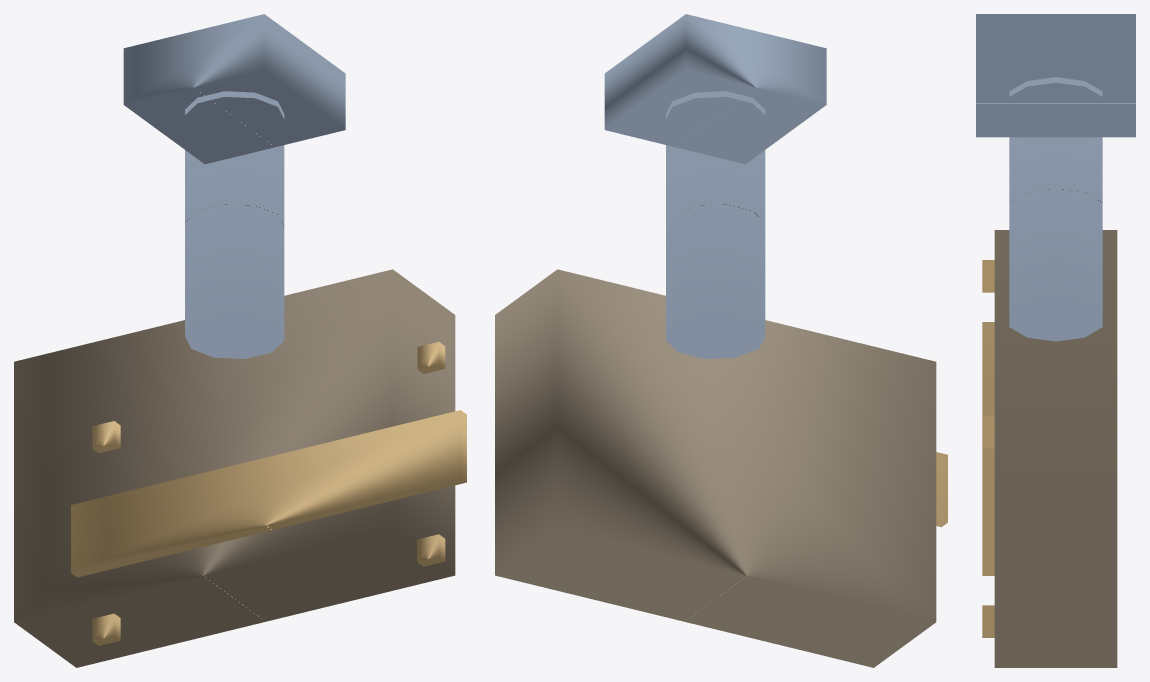
File: press_piston.glb
The picture shows the model from 3 angles, left to right: view 1: azimuth 30°, elevation 25°; view 2: azimuth 150°, elevation 25°; view 3: azimuth 270°, elevation 25°; orthographic projection.
Size of the model in its own units: 72 by 95 by 26.
